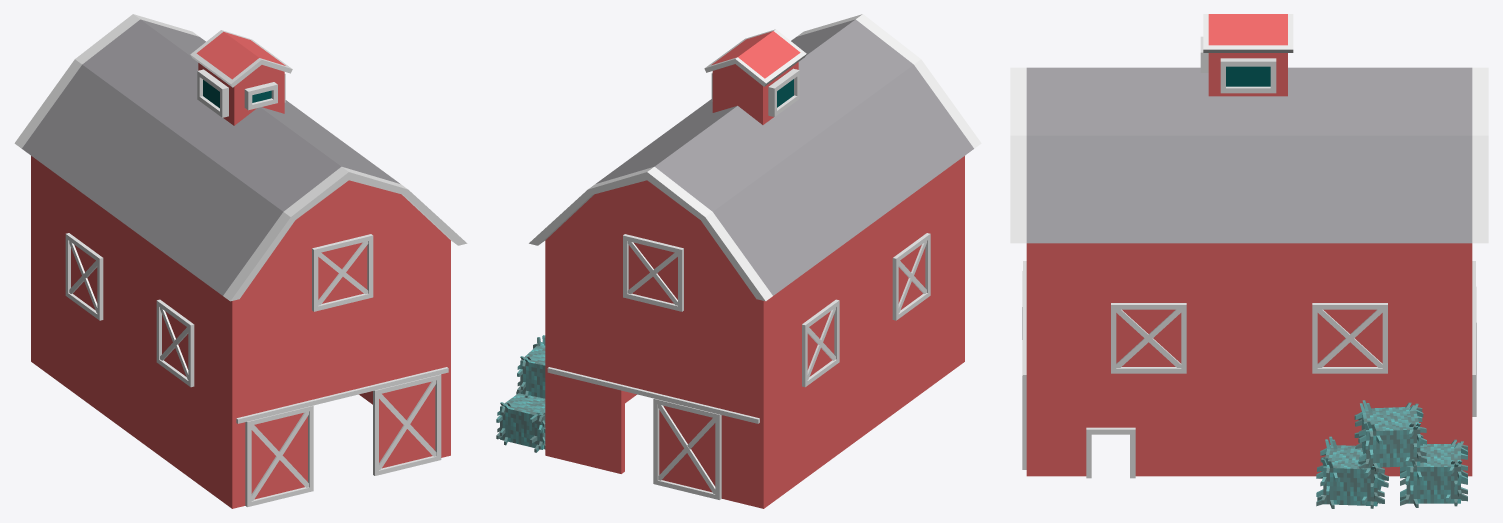
The model's file is building_barn.fbx.
The picture shows the model from 3 angles, left to right: view 1: azimuth 30°, elevation 25°; view 2: azimuth 150°, elevation 25°; view 3: azimuth 270°, elevation 25°; orthographic projection. The views are drawn at different scales.
Visible parts, largest first — view 1: building_barn, frames, door2, door1; view 2: building_barn, frames, door3, hay; view 3: building_barn, frames, hay.
Boxes of the visible parts, x1,y1,x2,y2 form: building_barn: (14,14,467,508); frames: (65,233,448,423); door2: (373,374,441,475); door1: (245,405,313,507); building_barn: (529,14,981,508); frames: (547,233,930,423); door3: (653,398,721,499); hay: (496,335,545,452); building_barn: (1010,14,1488,476); frames: (1023,261,1475,478); hay: (1316,400,1467,508).
Bounding box in the file's own units: 13.44 × 16.44 × 17.59.
Materials: 6 (1 with a texture image).
